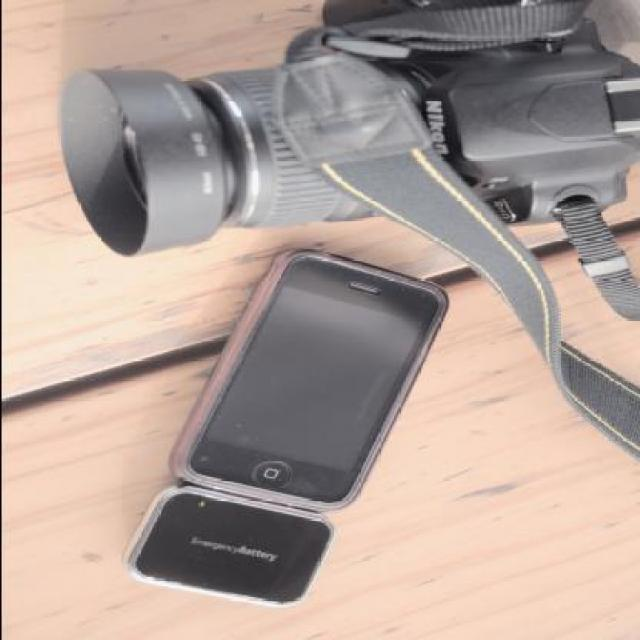phone: (147, 243, 461, 554)
